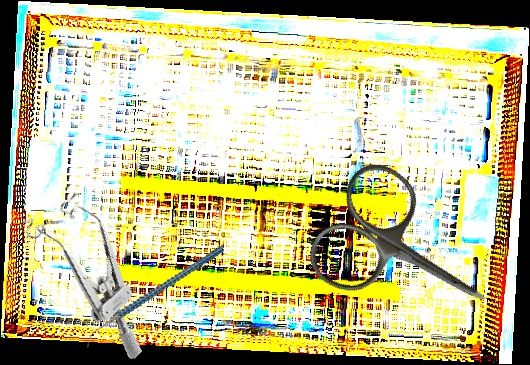Chopper: (71, 245, 239, 349)
Iris Scissors: (297, 152, 520, 358)
Speculum: (8, 179, 189, 362)
